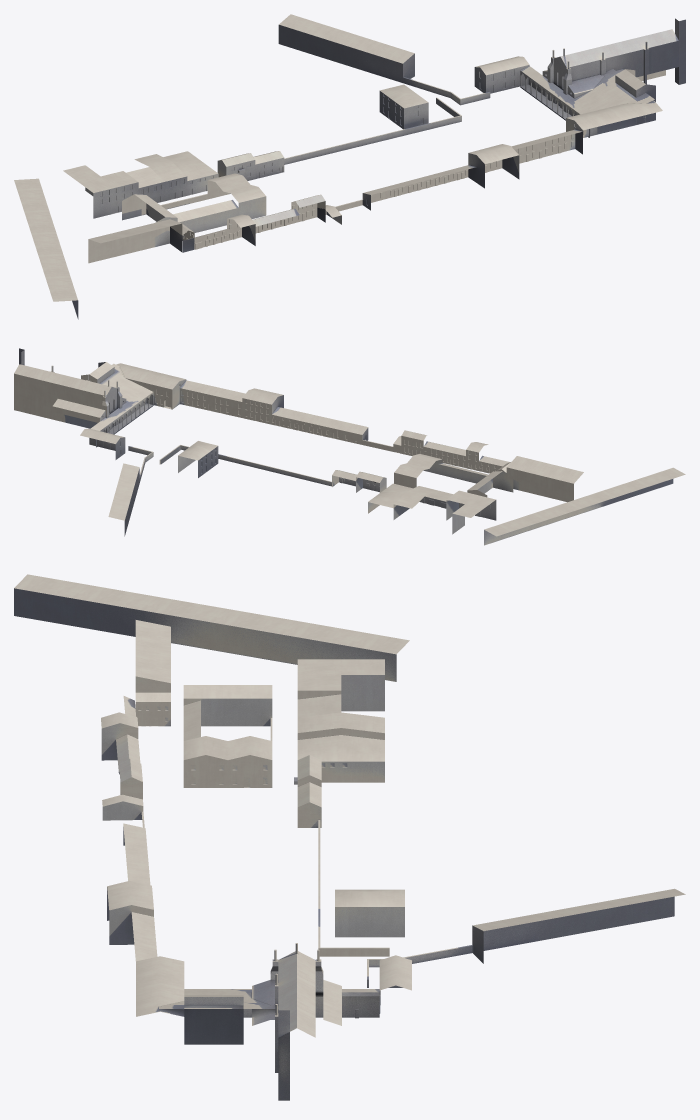
File: Edifici cucinati 2K carta.glb
3 views of the same model, one above another, from view 1: azimuth 30°, elevation 25°; view 2: azimuth 150°, elevation 25°; view 3: azimuth 270°, elevation 25° (orthographic). The views are drawn at different scales.
Visible parts, largest first — view 1: Contesto; view 2: Contesto; view 3: Contesto.
Boxes of the visible parts, box(x1,y1,x2,y2) form: Contesto: box(14, 14, 685, 319); Contesto: box(14, 348, 685, 545); Contesto: box(14, 574, 685, 1100).
Size of the model in its own units: 310 by 26.19 by 176.
Materials: 1 (1 with a texture image).
